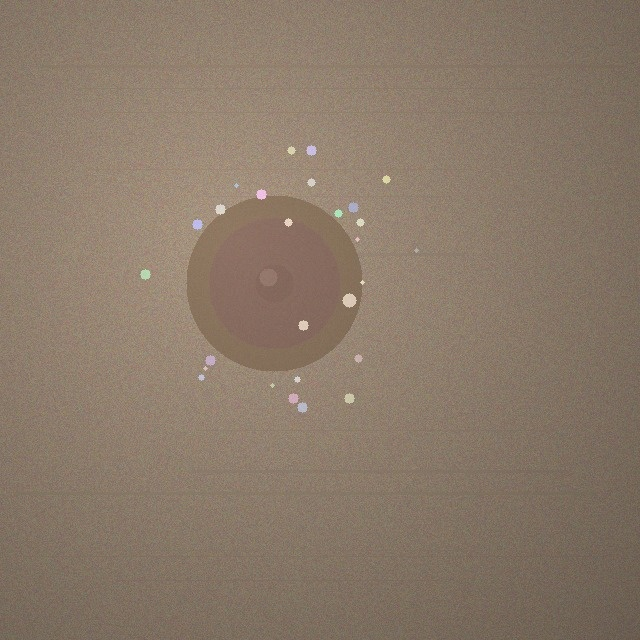overburn: (186, 195, 362, 371)
